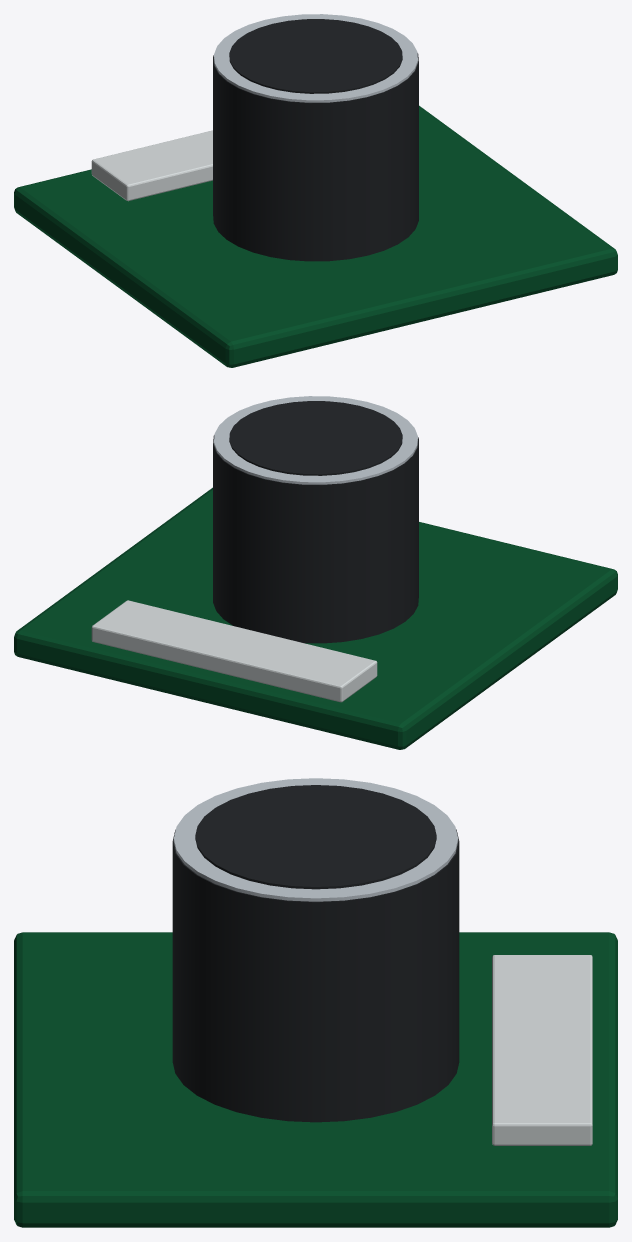
The model's file is camera_module_3_noir.glb.
3 views of the same model, one above another, from view 1: azimuth 30°, elevation 25°; view 2: azimuth 150°, elevation 25°; view 3: azimuth 270°, elevation 25° (orthographic). The views are drawn at different scales.
Visible parts, largest first — view 1: part_camera_module_3_noir__pcb, part_camera_module_3_noir__black_polymer, part_camera_module_3_noir__polymer, part_camera_module_3_noir__steel; view 2: part_camera_module_3_noir__pcb, part_camera_module_3_noir__black_polymer, part_camera_module_3_noir__polymer, part_camera_module_3_noir__steel; view 3: part_camera_module_3_noir__pcb, part_camera_module_3_noir__black_polymer, part_camera_module_3_noir__polymer, part_camera_module_3_noir__steel.
Part boxes in pixels (x1,y1,x2,y2): part_camera_module_3_noir__pcb: [14, 105, 617, 367]; part_camera_module_3_noir__black_polymer: [213, 19, 418, 261]; part_camera_module_3_noir__polymer: [91, 130, 212, 201]; part_camera_module_3_noir__steel: [214, 14, 417, 102]; part_camera_module_3_noir__pcb: [14, 487, 617, 749]; part_camera_module_3_noir__black_polymer: [213, 401, 418, 643]; part_camera_module_3_noir__polymer: [91, 600, 377, 702]; part_camera_module_3_noir__steel: [214, 396, 417, 484]; part_camera_module_3_noir__pcb: [14, 932, 617, 1227]; part_camera_module_3_noir__black_polymer: [172, 785, 459, 1122]; part_camera_module_3_noir__polymer: [492, 955, 592, 1145]; part_camera_module_3_noir__steel: [173, 778, 458, 901].
Size of the model in its own units: 0.025 by 0.0115 by 0.024.
